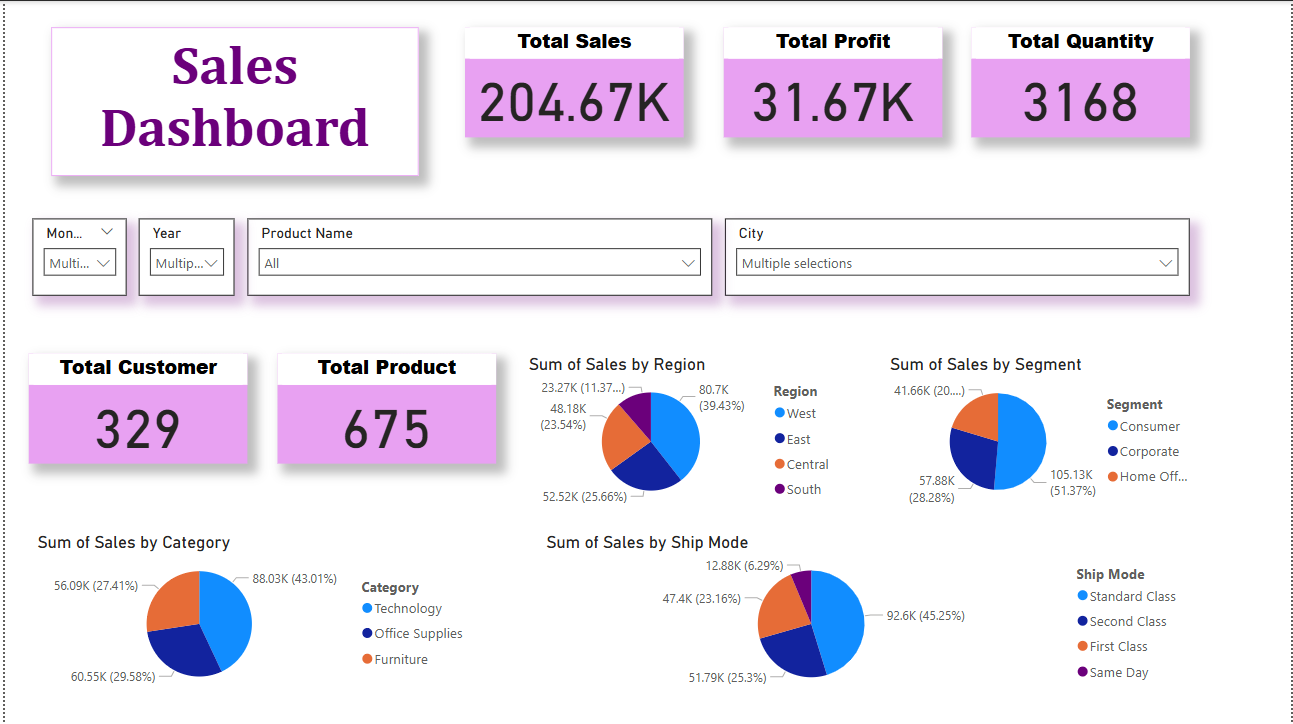

Layout of this report page (visuals, bound fields, positions):
{"tool":"powerbi","page":{"name":"Page 1","canvas":[1280,720],"ordinal":0},"visuals":[{"type":"textbox","box":[45.5,25.6,365.5,147.9],"z":0},{"type":"slicer","fields":{"Values":["Sales Overview Data xlsx - Sales Data.City"]},"box":[716.8,216.2,462.2,76.8],"z":1000},{"type":"slicer","fields":{"Values":["Sales Overview Data xlsx - Sales Data.Product Name"]},"box":[241.8,216.2,462.2,76.8],"z":2000},{"type":"slicer","fields":{"Values":["Sales Overview Data xlsx - Sales Data.Order Date.Variation.Date Hierarchy.Month"]},"box":[27,216.2,93.9,76.8],"z":3000},{"type":"slicer","fields":{"Values":["Sales Overview Data xlsx - Sales Data.Order Date.Variation.Date Hierarchy.Year"]},"box":[133.7,216.2,95.3,76.8],"z":4000},{"type":"card","title":"Total Sales","fields":{"Values":["Sum(Sales Overview Data xlsx - Sales Data.Sales)"]},"box":[458,25.6,217.6,109.5],"z":5000},{"type":"card","title":"Total Profit","fields":{"Values":["Sum(Sales Overview Data xlsx - Sales Data.Profit)"]},"box":[715.4,25.6,217.6,109.5],"z":6000},{"type":"card","title":"Total Quantity","fields":{"Values":["Sum(Sales Overview Data xlsx - Sales Data.Quantity)"]},"box":[961.4,25.6,217.6,109.5],"z":7000},{"type":"card","title":"Total Customer","fields":{"Values":["Count(Sales Overview Data xlsx - Sales Data.Customer ID)"]},"box":[24.2,351.3,217.6,109.5],"z":8000},{"type":"card","title":"Total Product","fields":{"Values":["Count(Sales Overview Data xlsx - Sales Data.Product ID)"]},"box":[271.6,351.3,217.6,109.5],"z":9000},{"type":"pieChart","fields":{"Y":["Sum(Sales Overview Data xlsx - Sales Data.Sales)"],"Category":["Sales Overview Data xlsx - Sales Data.Region"]},"box":[516.3,351.3,318.6,156.4],"z":10000},{"type":"pieChart","fields":{"Y":["Sum(Sales Overview Data xlsx - Sales Data.Sales)"],"Category":["Sales Overview Data xlsx - Sales Data.Category"]},"box":[27,529.1,442.3,163.6],"z":11000},{"type":"pieChart","fields":{"Y":["Sum(Sales Overview Data xlsx - Sales Data.Sales)"],"Category":["Sales Overview Data xlsx - Sales Data.Segment"]},"box":[876.1,351.3,318.6,156.4],"z":12000},{"type":"pieChart","fields":{"Y":["Sum(Sales Overview Data xlsx - Sales Data.Sales)"],"Category":["Sales Overview Data xlsx - Sales Data.Ship Mode"]},"box":[533.3,529.1,645.7,163.6],"z":13000}]}

Visuals, with their boxes in screenshot pixels (x1, y1, x2, y2), scaled from the page's 1280x720 canvas onto the 1293x724 screenshot:
textbox: (x1=46, y1=26, x2=415, y2=174)
slicer - Sales Overview Data xlsx - Sales Data.City: (x1=724, y1=217, x2=1191, y2=295)
slicer - Sales Overview Data xlsx - Sales Data.Product Name: (x1=244, y1=217, x2=711, y2=295)
slicer - Sales Overview Data xlsx - Sales Data.Order Date.Variation.Date Hierarchy.Month: (x1=27, y1=217, x2=122, y2=295)
slicer - Sales Overview Data xlsx - Sales Data.Order Date.Variation.Date Hierarchy.Year: (x1=135, y1=217, x2=231, y2=295)
"Total Sales" card: (x1=463, y1=26, x2=682, y2=136)
"Total Profit" card: (x1=723, y1=26, x2=942, y2=136)
"Total Quantity" card: (x1=971, y1=26, x2=1191, y2=136)
"Total Customer" card: (x1=24, y1=353, x2=244, y2=463)
"Total Product" card: (x1=274, y1=353, x2=494, y2=463)
pieChart - Sum(Sales Overview Data xlsx - Sales Data.Sales) x Sales Overview Data xlsx - Sales Data.Region: (x1=522, y1=353, x2=843, y2=511)
pieChart - Sum(Sales Overview Data xlsx - Sales Data.Sales) x Sales Overview Data xlsx - Sales Data.Category: (x1=27, y1=532, x2=474, y2=697)
pieChart - Sum(Sales Overview Data xlsx - Sales Data.Sales) x Sales Overview Data xlsx - Sales Data.Segment: (x1=885, y1=353, x2=1207, y2=511)
pieChart - Sum(Sales Overview Data xlsx - Sales Data.Sales) x Sales Overview Data xlsx - Sales Data.Ship Mode: (x1=539, y1=532, x2=1191, y2=697)
